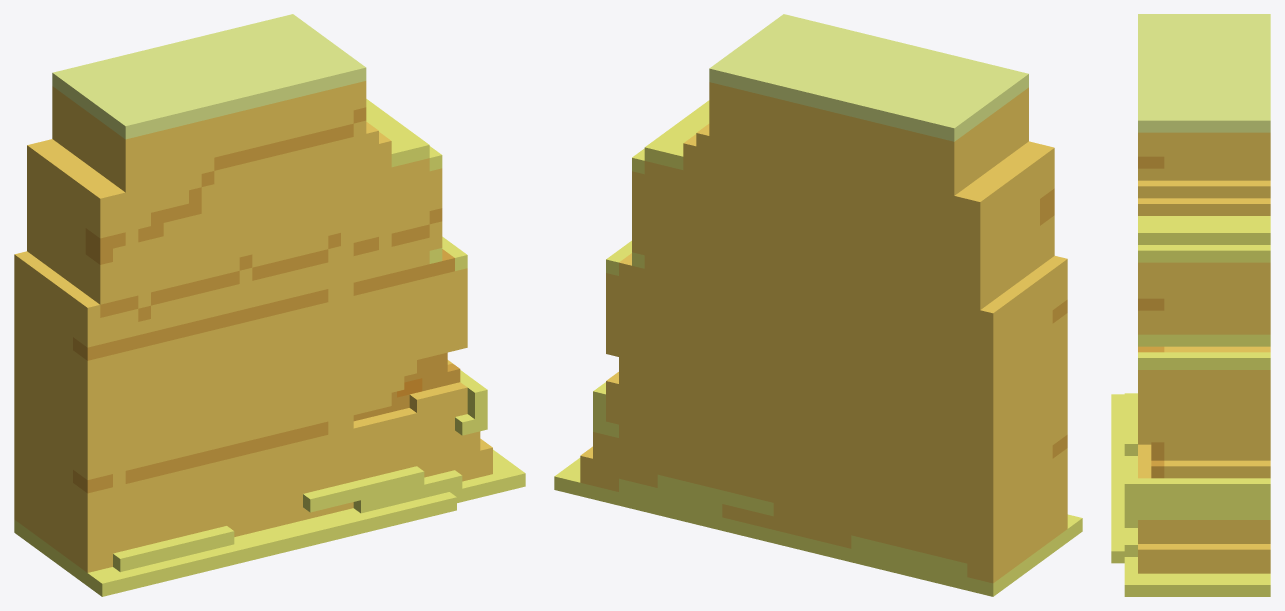
Rendered from shanti3.obj.
3 renders of one model, left to right at view 1: azimuth 30°, elevation 25°; view 2: azimuth 150°, elevation 25°; view 3: azimuth 270°, elevation 25°, orthographic. The views are drawn at different scales.
Bounding box in the file's own units: 34 × 34 × 12.
1 material, 1 textured.
